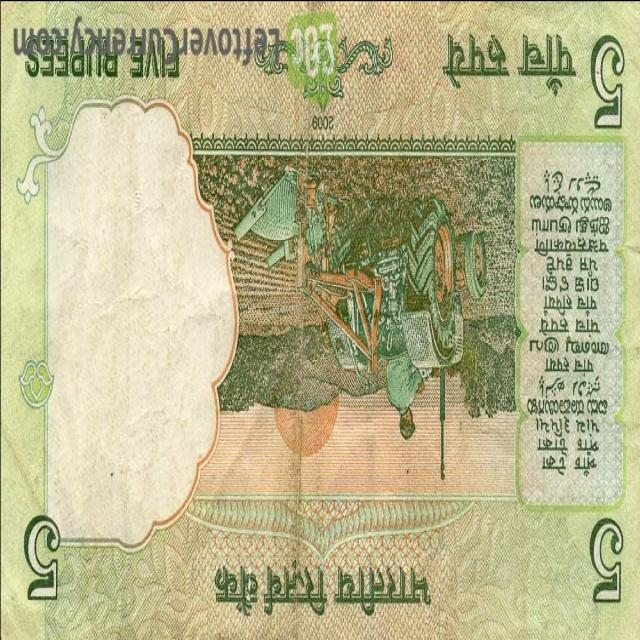5IndianRupees: (4, 2, 637, 631)
